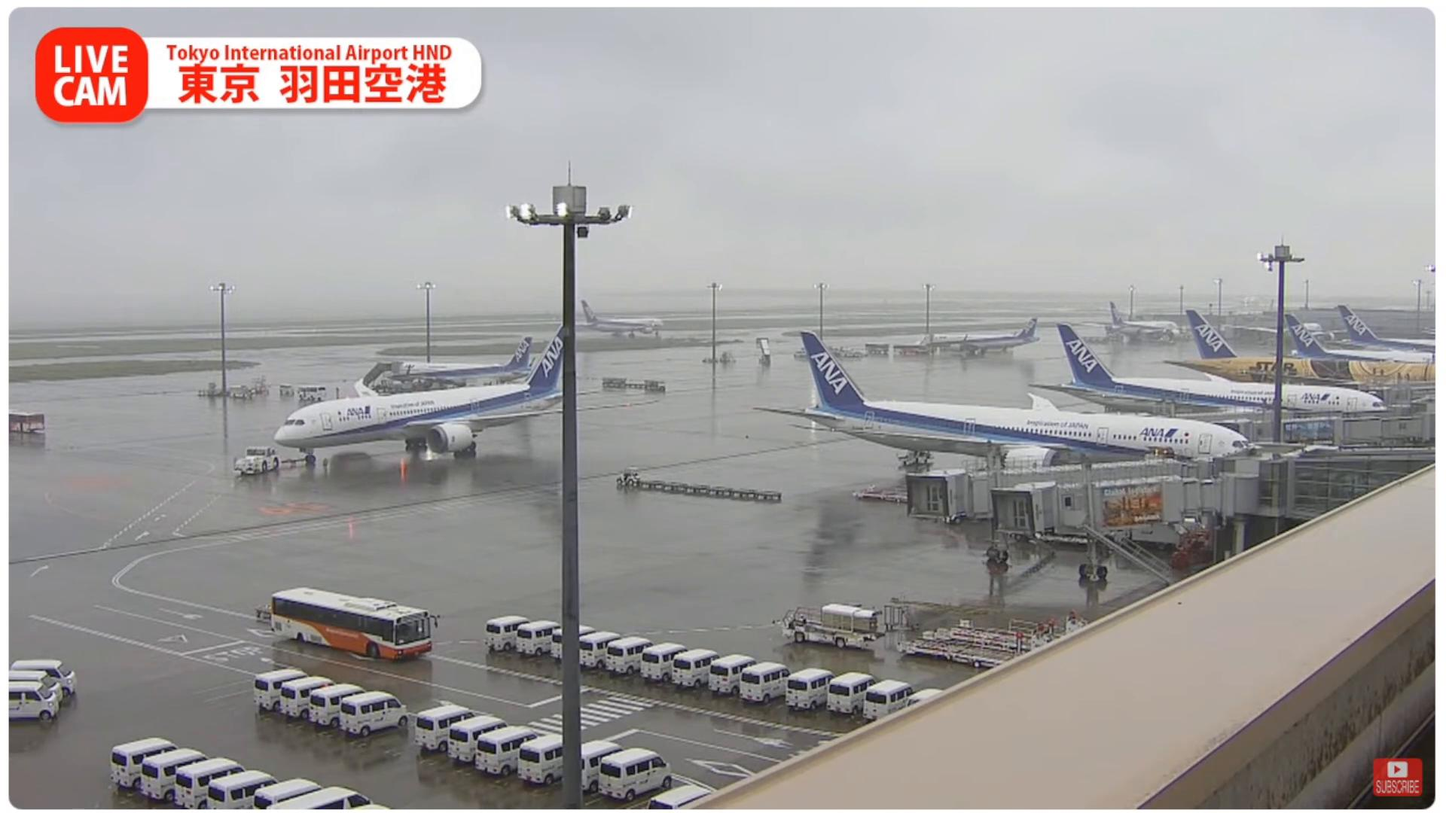APS: (235, 446, 280, 474)
Aerobridge: (904, 455, 1210, 522), (991, 474, 1261, 535)
Airplane: (272, 327, 655, 465)
JCPL: (924, 615, 1087, 656), (895, 630, 1024, 671)
Skyloader: (778, 603, 887, 649)
Window: (1292, 458, 1433, 516)
